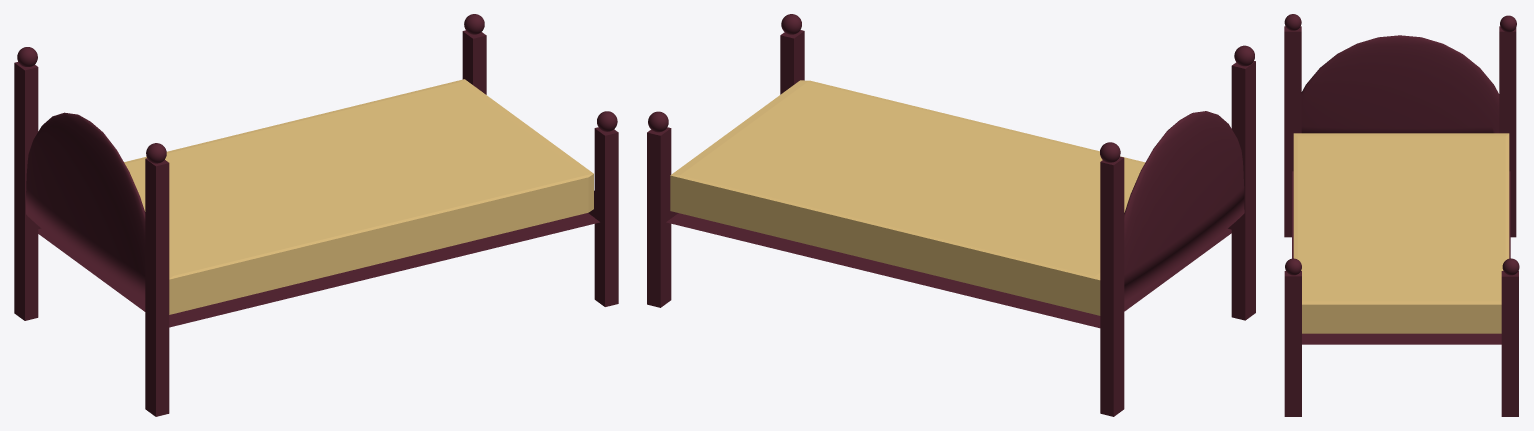
Rendered from cama_solteiro.fbx.
3 renders of one model, left to right at view 1: azimuth 30°, elevation 25°; view 2: azimuth 150°, elevation 25°; view 3: azimuth 270°, elevation 25°, orthographic. The views are drawn at different scales.
Visible parts, largest first — view 1: Cubo.005; view 2: Cubo.005; view 3: Cubo.005.
Part boxes in pixels (box(x1,y1,x2,y2)): Cubo.005: box(14, 14, 618, 416); Cubo.005: box(647, 14, 1255, 416); Cubo.005: box(1284, 14, 1519, 416).
Size of the model in its own units: 920 by 501 by 487.
